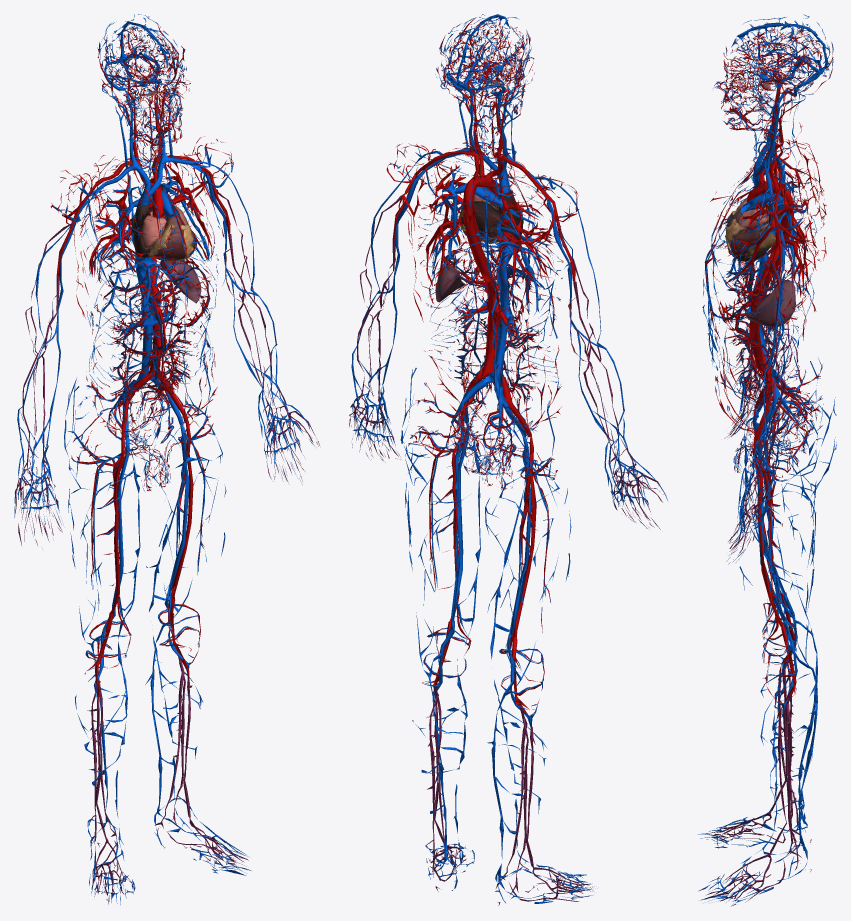
Rendered from sys-circulatory.glb.
3 renders of one model, left to right at view 1: azimuth 30°, elevation 25°; view 2: azimuth 150°, elevation 25°; view 3: azimuth 270°, elevation 25°, orthographic. The views are drawn at different scales.
Parts seen in each view (by area): view 1: Right_great_saphenous_vein, Left_great_saphenous_vein, Right_pulmonary_artery_branches, Inferior_vena_cava, Left_small_short_saphenous_vein, Left_superficial_palmar_venous_arch, Spleen, Right_femoral_artery, Right_superficial_palmar_venous_arch, Right_superior_pulmonary_vein, Left_femoral_vein, Left_femoral_artery (+5 smaller); view 2: Right_great_saphenous_vein, Left_great_saphenous_vein, Inferior_vena_cava, Right_pulmonary_artery_branches, Descending_aorta_of_abdomen, Right_small_short_saphenous_vein, Descending_aorta_of_thorax, Left_small_short_saphenous_vein, Left_pulmonary_artery_branches, Left_femoral_vein, Right_femoral_artery, Right_inferior_pulmonary_vein (+4 smaller); view 3: Left_great_saphenous_vein, Right_great_saphenous_vein, Spleen, Left_small_short_saphenous_vein, Left_superior_pulmonary_vein, Right_small_short_saphenous_vein, Left_inferior_pulmonary_vein, Descending_aorta_of_abdomen, Left_pulmonary_artery_branches, Left_femoral_artery, Left_ventricle, Left_cephalic_vein (+20 smaller).
Boxes of the visible parts, <box> form: Right_great_saphenous_vein: <box>64,378,140,847</box>; Left_great_saphenous_vein: <box>144,354,226,832</box>; Right_pulmonary_artery_branches: <box>89,173,147,282</box>; Inferior_vena_cava: <box>134,256,156,382</box>; Left_small_short_saphenous_vein: <box>145,580,202,825</box>; Left_superficial_palmar_venous_arch: <box>247,347,314,466</box>; Spleen: <box>159,259,201,303</box>; Right_femoral_artery: <box>110,438,124,613</box>; Right_superficial_palmar_venous_arch: <box>18,405,59,524</box>; Right_superior_pulmonary_vein: <box>94,174,146,272</box>; Left_femoral_vein: <box>167,424,189,595</box>; Left_femoral_artery: <box>172,422,193,599</box>; Right_great_saphenous_vein: <box>482,400,571,877</box>; Left_great_saphenous_vein: <box>400,368,481,864</box>; Inferior_vena_cava: <box>483,244,521,388</box>; Right_pulmonary_artery_branches: <box>493,175,553,297</box>; Descending_aorta_of_abdomen: <box>477,282,504,379</box>; Right_small_short_saphenous_vein: <box>487,643,546,889</box>; Descending_aorta_of_thorax: <box>462,204,494,285</box>; Left_small_short_saphenous_vein: <box>412,612,465,872</box>; Left_pulmonary_artery_branches: <box>430,166,463,282</box>; Left_femoral_vein: <box>451,422,469,622</box>; Right_femoral_artery: <box>513,435,536,637</box>; Right_inferior_pulmonary_vein: <box>492,231,554,297</box>; Left_great_saphenous_vein: <box>737,404,836,854</box>; Right_great_saphenous_vein: <box>737,341,836,832</box>; Spleen: <box>746,279,795,326</box>; Left_small_short_saphenous_vein: <box>774,622,817,859</box>; Left_superior_pulmonary_vein: <box>733,180,804,277</box>; Right_small_short_saphenous_vein: <box>774,578,817,834</box>; Left_inferior_pulmonary_vein: <box>755,228,808,297</box>; Descending_aorta_of_abdomen: <box>747,281,770,379</box>; Left_pulmonary_artery_branches: <box>733,178,802,294</box>; Left_femoral_artery: <box>752,439,782,627</box>; Left_ventricle: <box>730,225,769,261</box>; Left_cephalic_vein: <box>758,187,780,469</box>.
Bounding box in the file's own units: 0.6451 × 1.69 × 0.2532.
817 materials, 817 textured.
